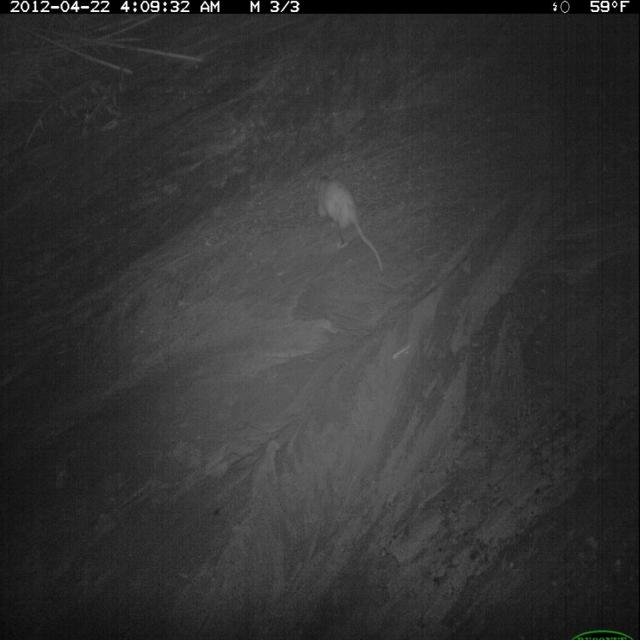opossum: (313, 172, 382, 269)
